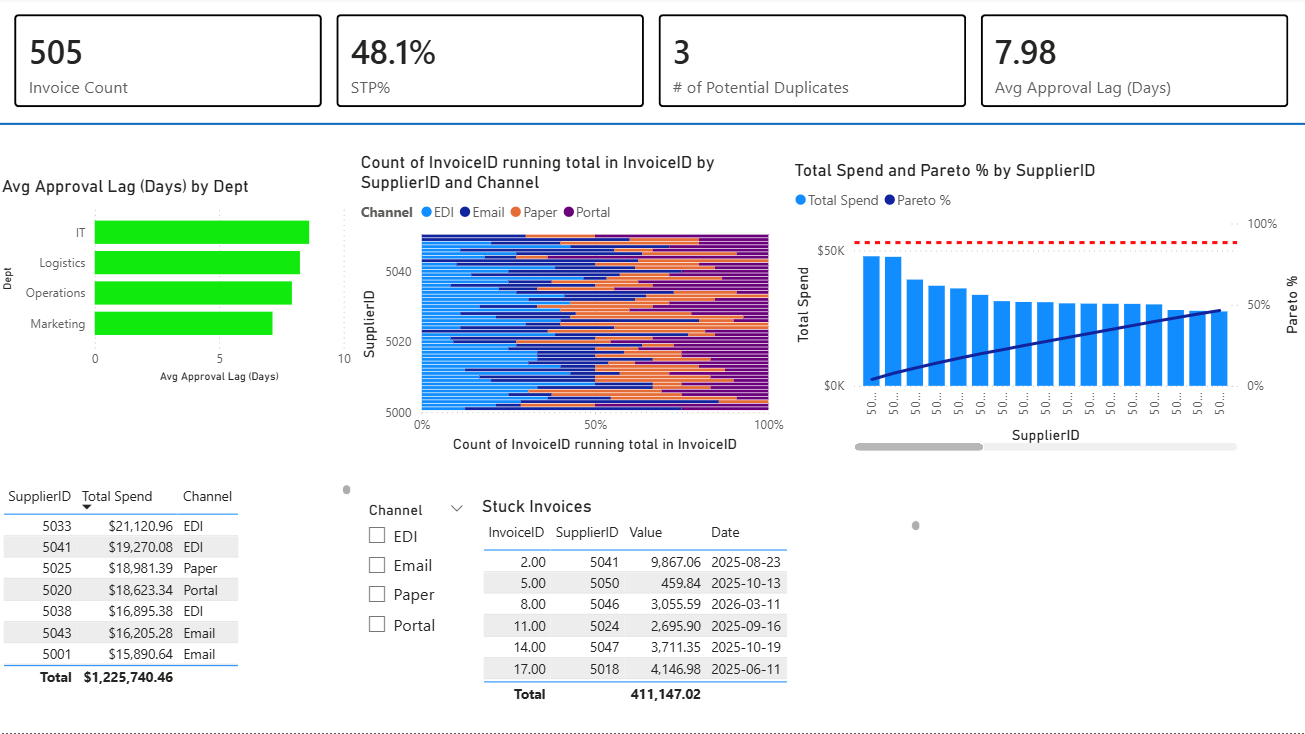

This screenshot's page, from the dashboard's own definition file:
{"tool":"powerbi","page":{"name":"Page 1","canvas":[1280,720],"ordinal":0},"visuals":[{"type":"cardVisual","title":"Invoice Count","fields":{"Data":["CountNonNull(Raw_Invoices.InvoiceID)","Raw_Invoices.STP%","Raw_Invoices.# of Potential Duplicates","Raw_Invoices.Avg Approval Lag (Days)"]},"box":[0,0,1280,125.2],"z":0},{"type":"clusteredBarChart","fields":{"Category":["Raw_Invoices.Dept"],"Y":["Raw_Invoices.Avg Approval Lag (Days)"]},"box":[0,174.9,351.3,207.6],"z":1000},{"type":"shape","box":[0,89.6,1280,69.7],"z":2000},{"type":"hundredPercentStackedBarChart","fields":{"Category":["Raw_Invoices.SupplierID"],"Series":["Raw_Invoices.Channel"],"Y":["Raw_Invoices.Count of InvoiceID running total in InvoiceID"]},"box":[351.3,152.2,423.8,298.7],"z":3000},{"type":"lineClusteredColumnComboChart","fields":{"Category":["Raw_Invoices.SupplierID"],"Y":["Raw_Invoices.Total Spend"],"Y2":["Raw_Invoices.Pareto %"]},"box":[775.1,159.3,504.9,290.1],"z":4000},{"type":"tableEx","fields":{"Values":["Raw_Invoices.SupplierID","Raw_Invoices.Total Spend","Raw_Invoices.Channel"]},"box":[0,472.2,351.3,207.6],"z":5000},{"type":"slicer","fields":{"Values":["Raw_Invoices.Channel"]},"box":[351.3,487.8,118,207.6],"z":6000},{"type":"tableEx","title":"Stuck Invoices","fields":{"Values":["Raw_Invoices.InvoiceID","Raw_Invoices.SupplierID","Sum(Raw_Invoices.Amount)","Raw_Invoices.Date"]},"box":[469.6,487.9,439,207.9],"z":7000}]}

Visuals, with their boxes in screenshot pixels (x1, y1, x2, y2), scaled from the page's 1280x720 canvas onto the 1305x734 screenshot:
"Invoice Count" cardVisual: (0,0,1304,128)
clusteredBarChart - Raw_Invoices.Dept x Raw_Invoices.Avg Approval Lag (Days): (0,178,358,390)
shape: (0,91,1304,162)
hundredPercentStackedBarChart - Raw_Invoices.SupplierID x Raw_Invoices.Channel: (358,155,790,460)
lineClusteredColumnComboChart - Raw_Invoices.SupplierID x Raw_Invoices.Total Spend: (790,162,1304,458)
tableEx - Raw_Invoices.SupplierID x Raw_Invoices.Total Spend: (0,481,358,693)
slicer - Raw_Invoices.Channel: (358,497,478,709)
"Stuck Invoices" tableEx: (479,497,926,709)
